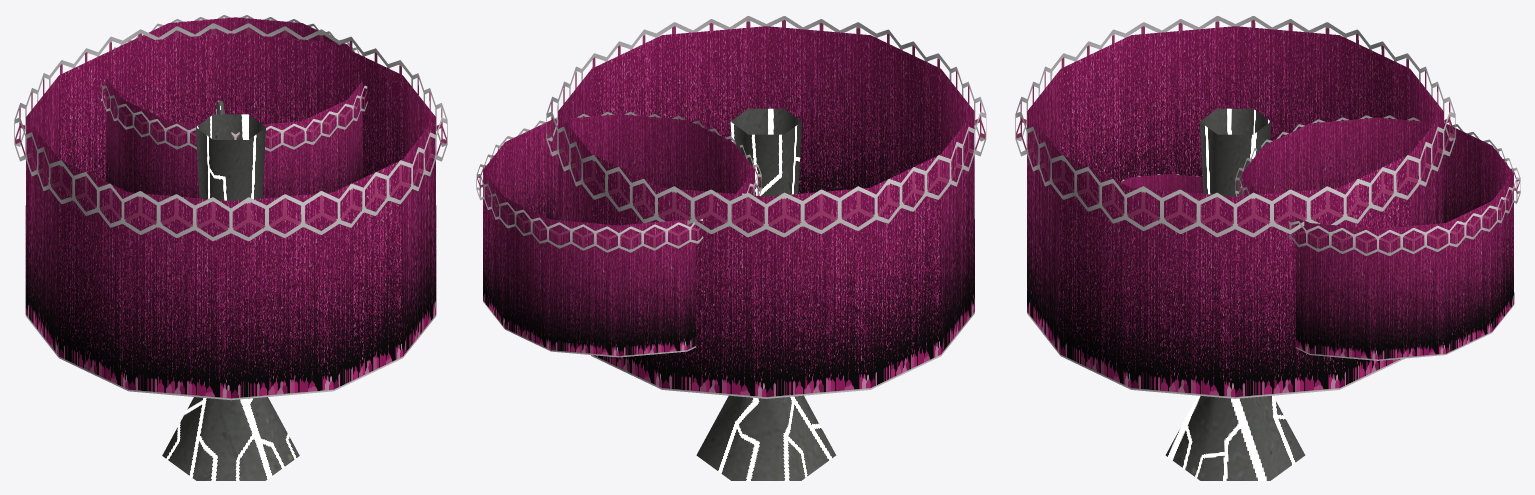
The model's file is TreeMuseum02.fbx.
3 renders of one model, left to right at view 1: azimuth 30°, elevation 25°; view 2: azimuth 150°, elevation 25°; view 3: azimuth 270°, elevation 25°, orthographic.
Parts seen in each view (by area): view 1: Tail, Tail2, Branch, Ring01, Ring02; view 2: Tail, Tail2, Branch, Ring01, Ring02; view 3: Tail, Tail2, Branch, Ring01, Ring02, Tail1.
Boxes of the visible parts, bbox=[...] form: Tail: bbox=[25, 33, 436, 400]; Tail2: bbox=[105, 17, 362, 198]; Branch: bbox=[162, 114, 299, 480]; Ring01: bbox=[14, 23, 447, 241]; Ring02: bbox=[101, 15, 367, 151]; Tail: bbox=[558, 26, 974, 398]; Tail2: bbox=[483, 114, 754, 357]; Branch: bbox=[696, 108, 836, 480]; Ring01: bbox=[546, 16, 986, 237]; Ring02: bbox=[476, 112, 761, 252]; Tail: bbox=[1027, 26, 1443, 398]; Tail2: bbox=[1242, 117, 1514, 360]; Branch: bbox=[1165, 108, 1305, 480]; Ring01: bbox=[1015, 16, 1455, 237]; Ring02: bbox=[1235, 115, 1520, 255]; Tail1: bbox=[1120, 174, 1203, 193].
Bounding box in the file's own units: 767 × 678 × 884.
